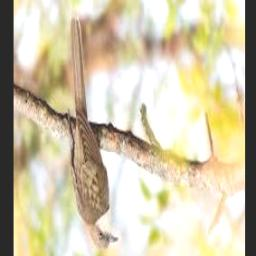Cuckoo: (69, 13, 119, 250)
